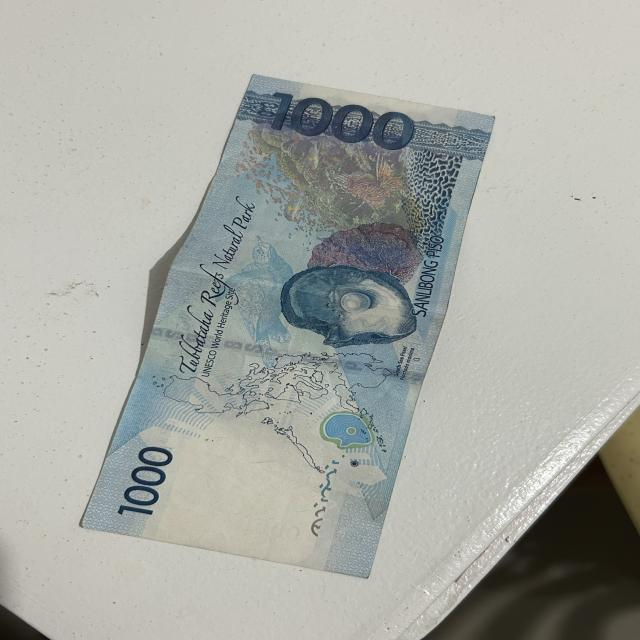1000_pearl: (282, 264, 417, 349)
1000_pearl_watermark: (322, 410, 374, 446)
value_watermark: (237, 514, 321, 551)
